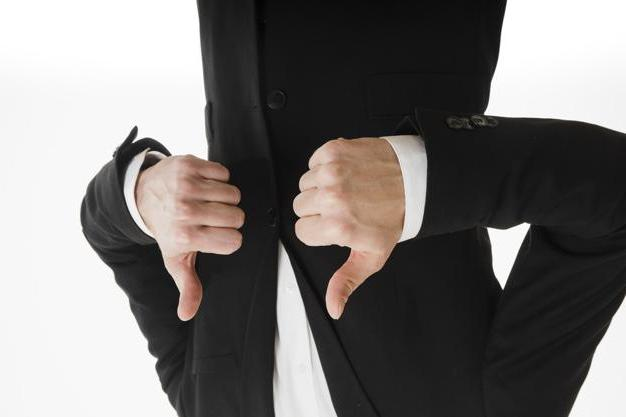thumbsdown: (293, 138, 381, 320), (168, 155, 245, 321)
